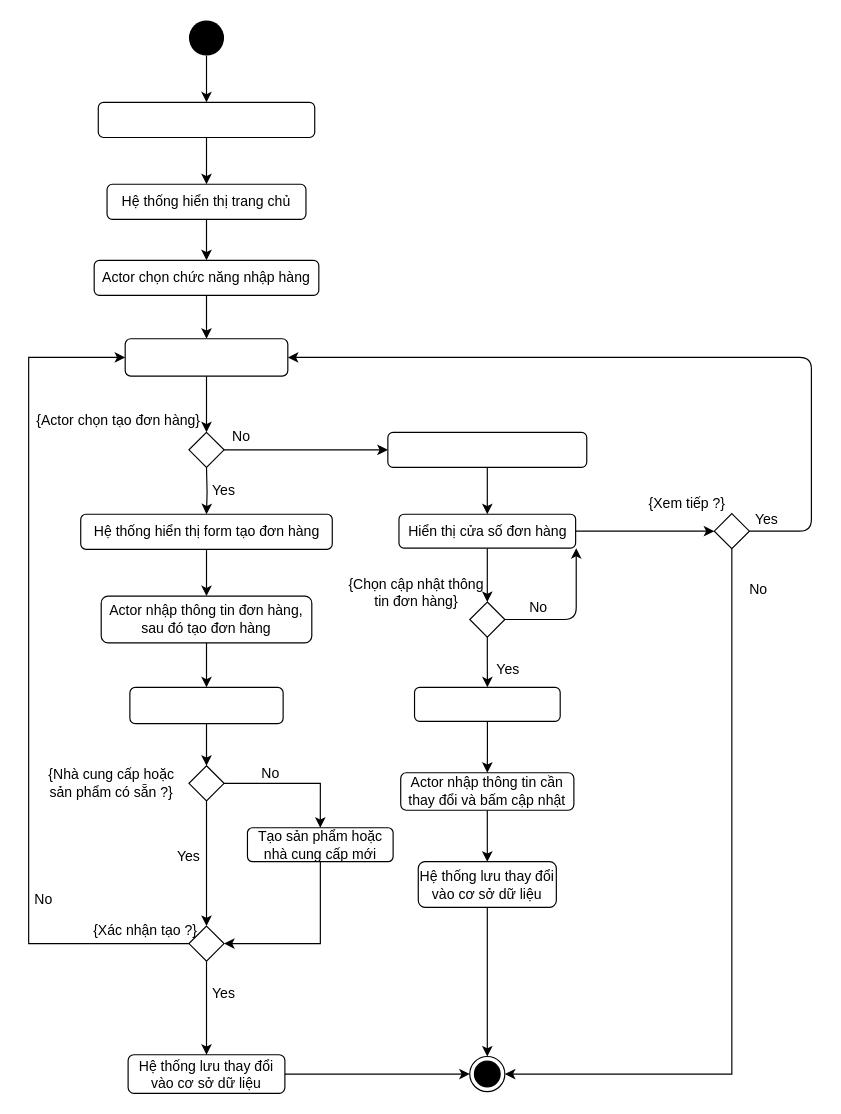
The diagram is 841 pixels wide and 1114 high, and some of its shapes have lost their labels. The centre of each missing label's shape, as x and y in pixels:
"Actor nhập thông tin đơn hàng và bấm tạo" belongs at pixel 206 705.
"Actor đăng nhập vào hệ thống" belongs at pixel 206 119.
"Chọn xem thông tin đơn hàng" belongs at pixel 487 449.
"Hiển thị cửa số cập nhật đơn hàng" belongs at pixel 486 703.
"Hệ thống hiển thị danh mục đơn hàng" belongs at pixel 206 357.
